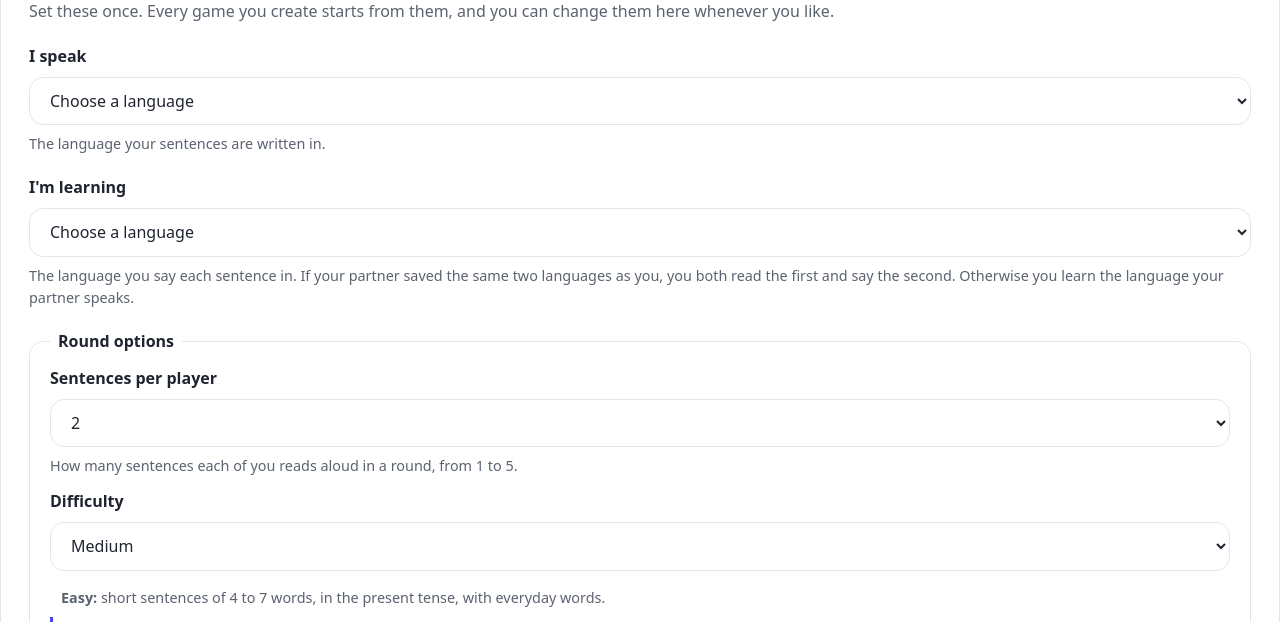
SettingsForm › cannot learn the language it speaks, and clears a learning choice that the speaking choice now clashes with
The width and height of the screenshot is (1280, 622).
Select "English" in the dropdown labelled "I speak" at {"x": 640, "y": 101}, box [29,77,1251,125]
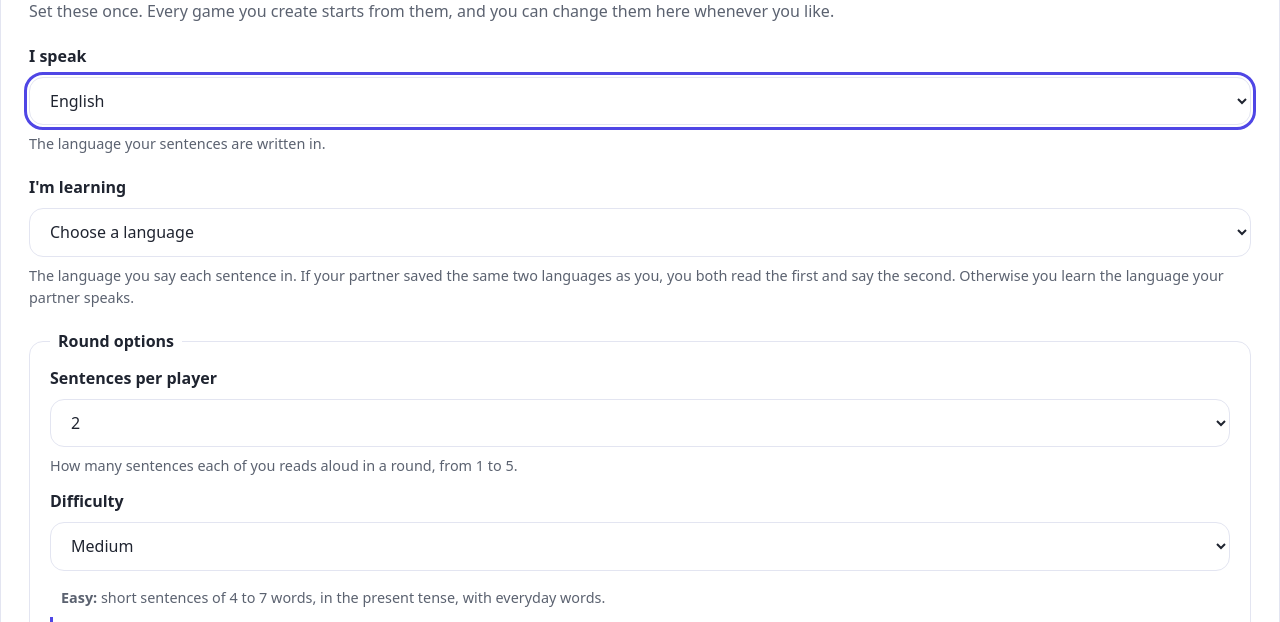
Select "German" in the dropdown labelled "I'm learning" at {"x": 640, "y": 232}, box [29,208,1251,257]
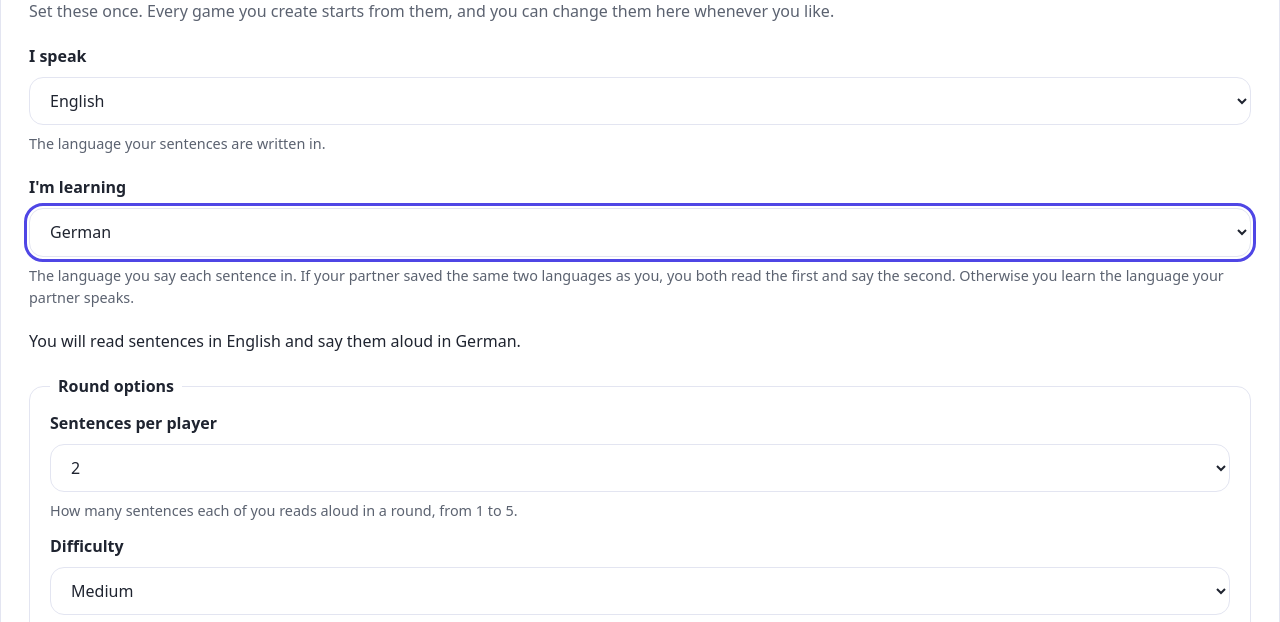
Select "German" in the dropdown labelled "I speak" at {"x": 640, "y": 101}, box [29,77,1251,125]
(page scrolled)
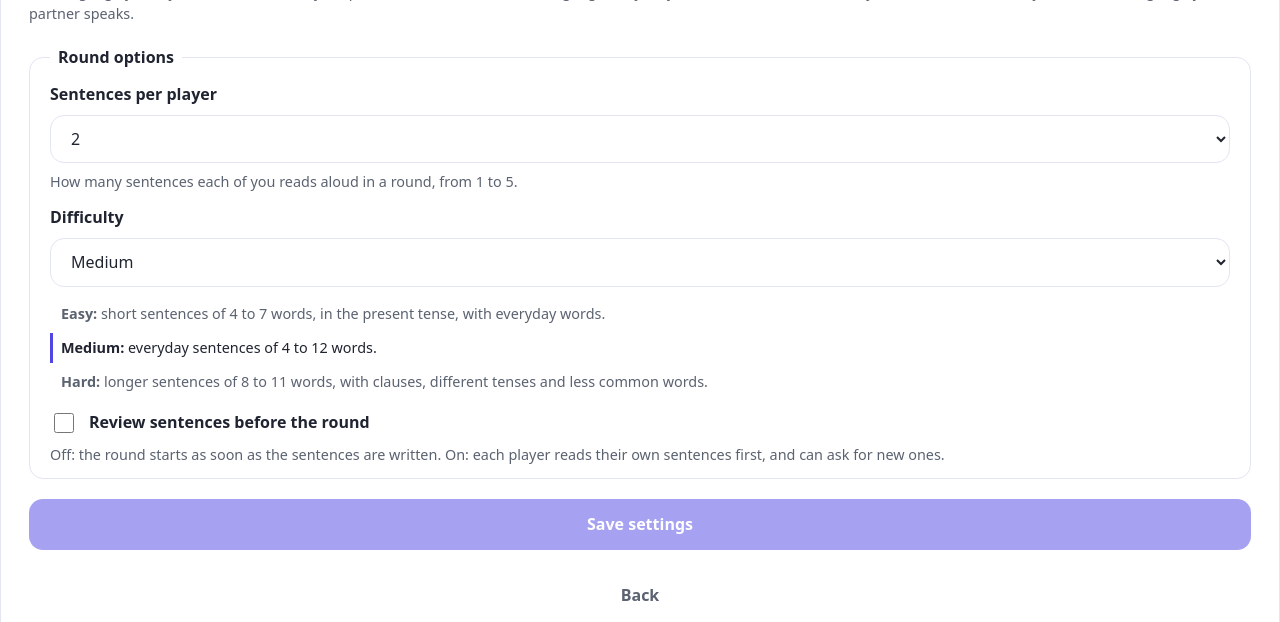
expect the button "Save settings" is disabled: met, box [29,499,1251,550]
